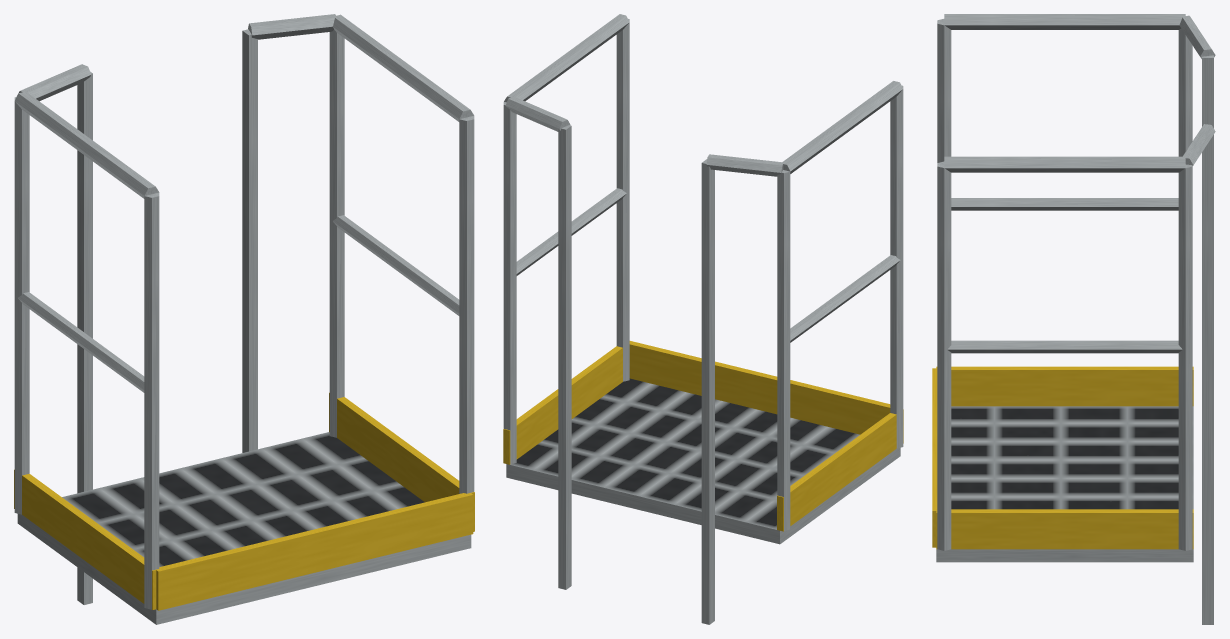
File: body.obj
The picture shows the model from 3 angles, left to right: view 1: azimuth 30°, elevation 25°; view 2: azimuth 150°, elevation 25°; view 3: azimuth 270°, elevation 25°; orthographic projection. The views are drawn at different scales.
Bounding box in the file's own units: 0.88 × 1.37 × 0.7043.
